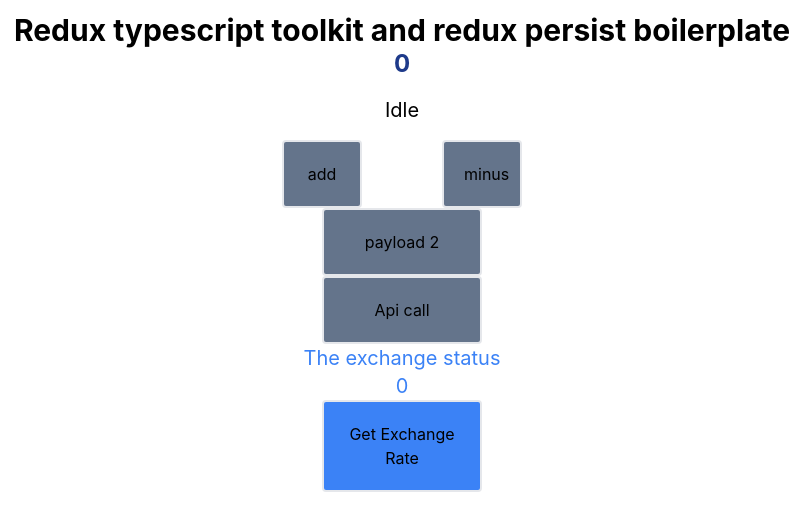
Test: Subtract one to the counter
Step 1. Click the button "minus" → click(482, 174), box top-left (442, 140), bottom-right (522, 208)
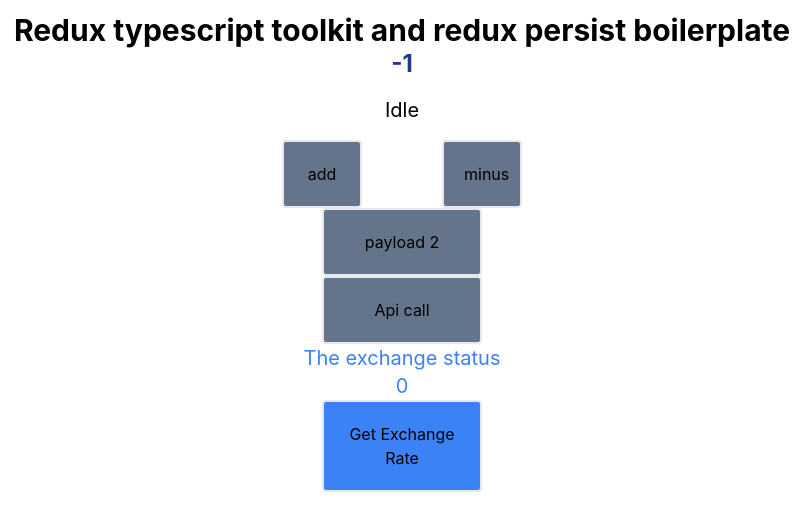
Expected: the text with test id "displayCount" reads "-1", top-left (391, 49), bottom-right (413, 78)
